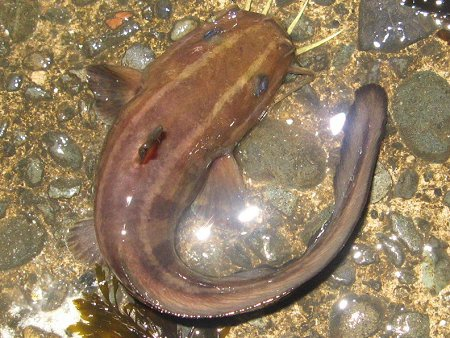gonzui: (88, 8, 387, 323)
